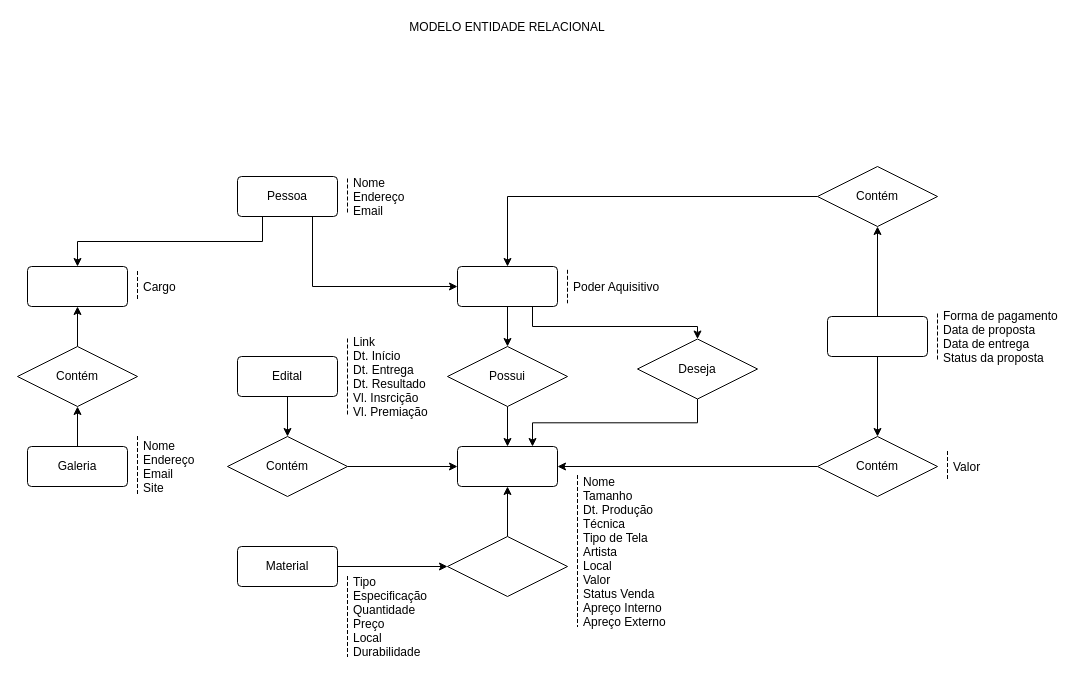
Some shapes in this 1076 by 676 pixel diagram are drawn without their labels. The shapes that lost their labels are listed below. From the top down, each one's box as (x1, y1, x2, y2) in pixels, then its label:
(26, 266, 128, 306): Contato
(456, 266, 558, 306): Cliente
(826, 316, 928, 356): Proposta de Venda
(456, 446, 558, 486): Obra
(446, 536, 568, 596): Compõe
